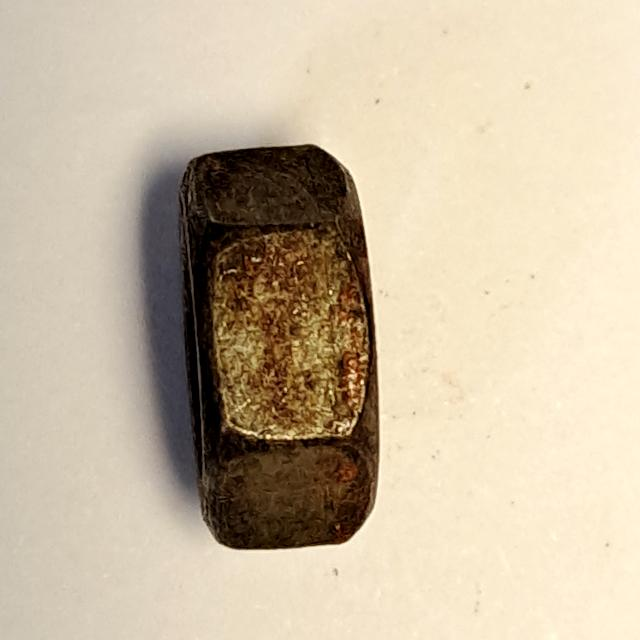Side_Rust: (162, 130, 396, 565)
